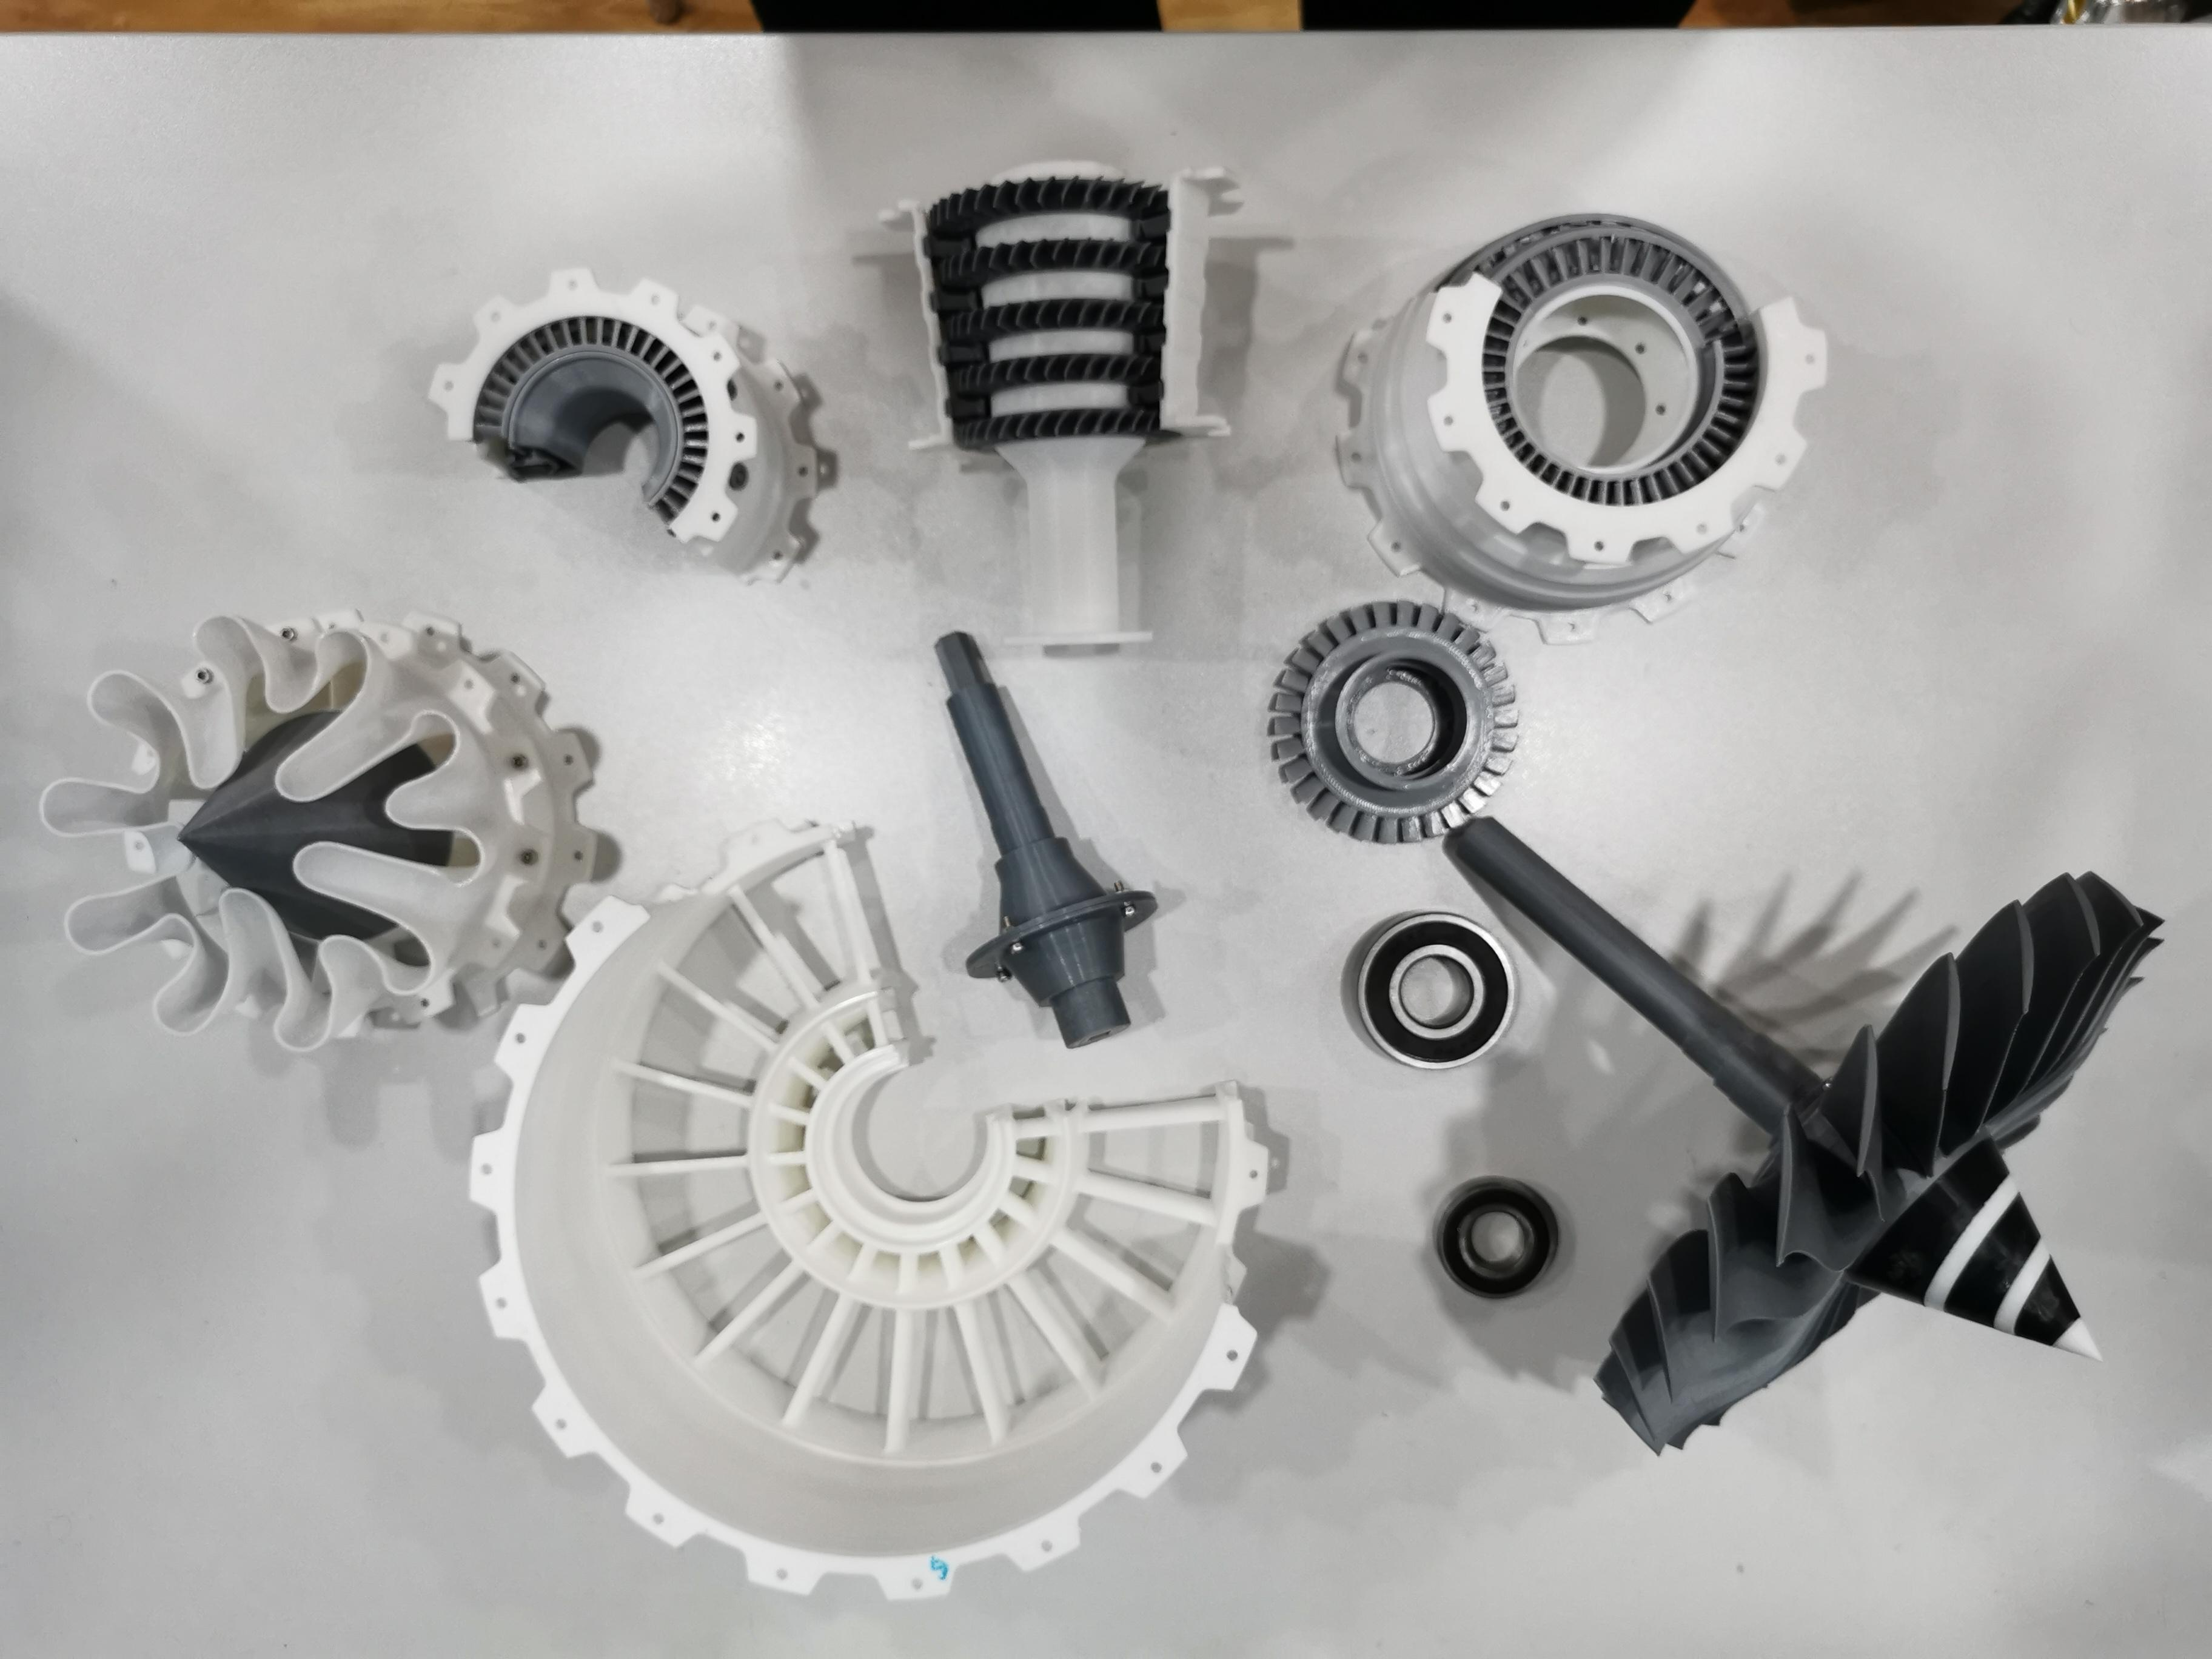Bearing-6003: (1413, 1157, 1573, 1321)
Bearing-6204: (1341, 901, 1522, 1087)
Combustion Section: (415, 253, 836, 605)
Fan Casing and Support: (463, 812, 1280, 1614)
Fan and Low Pressure Shaft: (1444, 810, 2181, 1466)
HPT Section: (1249, 598, 1529, 852)
High Pressure Spool: (857, 148, 1258, 664)
LPT Section: (1325, 199, 1841, 650)
Low Pressure Spool: (923, 617, 1174, 1056)
Nozzle Section: (33, 601, 603, 1058)
